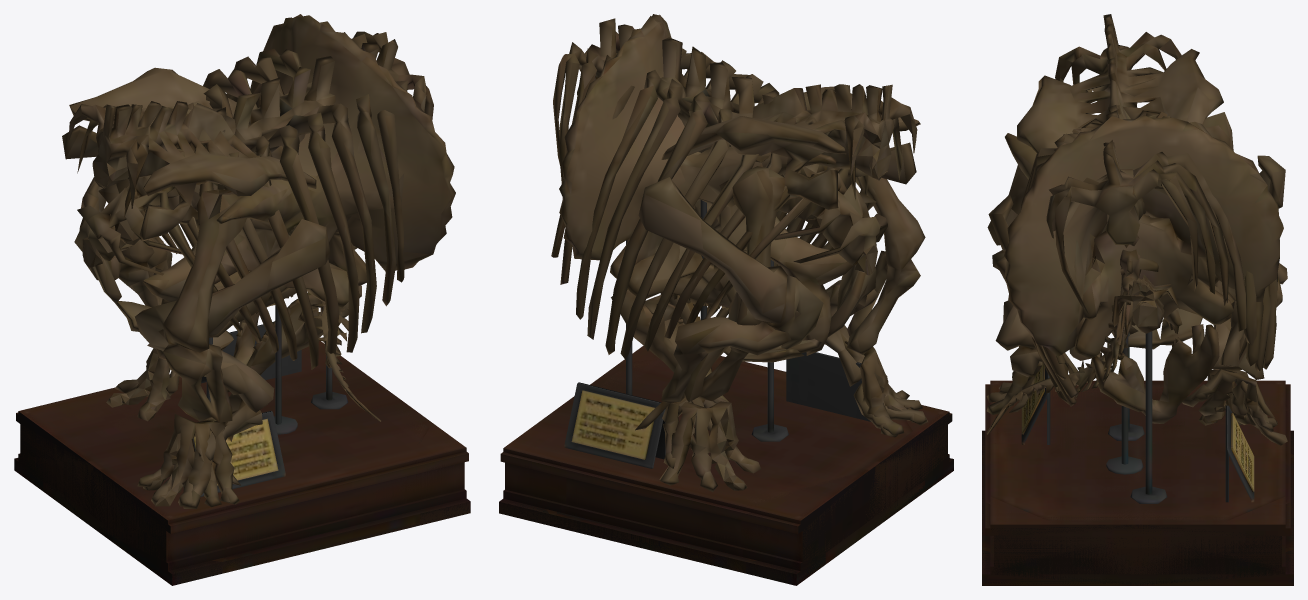
Rendered from fossil-tricera.glb.
The picture shows the model from 3 angles, left to right: view 1: azimuth 30°, elevation 25°; view 2: azimuth 150°, elevation 25°; view 3: azimuth 270°, elevation 25°; orthographic projection.
Parts seen in each view (by area): view 1: mFossilBaseMiddle, mFtrFossilTriceratopsB, mFtrFossilTriceratopsC, mFossilBaseEnd (×2), mFtrFossilTriceratopsA; view 2: mFossilBaseEnd (×2), mFtrFossilTriceratopsB, mFtrFossilTriceratopsC, mFossilBaseMiddle, mFtrFossilTriceratopsA; view 3: mFossilBaseEnd (×2), mFtrFossilTriceratopsA, mFtrFossilTriceratopsB, mFtrFossilTriceratopsC, mFossilBaseMiddle.
Part boxes in pixels (x1,y1,x2,y2): mFossilBaseMiddle: (14, 305, 470, 585); mFtrFossilTriceratopsB: (74, 31, 433, 506); mFtrFossilTriceratopsC: (62, 67, 380, 508); mFossilBaseEnd (×2): (14, 321, 470, 585); mFtrFossilTriceratopsA: (143, 14, 455, 392); mFossilBaseEnd (×2): (499, 240, 950, 585); mFtrFossilTriceratopsB: (551, 18, 927, 468); mFtrFossilTriceratopsC: (659, 84, 927, 491); mFossilBaseMiddle: (499, 200, 953, 585); mFtrFossilTriceratopsA: (559, 14, 853, 403); mFossilBaseEnd (×2): (982, 331, 1293, 585); mFtrFossilTriceratopsA: (1004, 113, 1283, 423); mFtrFossilTriceratopsB: (986, 105, 1287, 432); mFtrFossilTriceratopsC: (986, 14, 1287, 445); mFossilBaseMiddle: (982, 335, 1293, 585).
Size of the model in its own units: 20.2 by 28.6 by 18.33.
6 materials, 6 textured.
